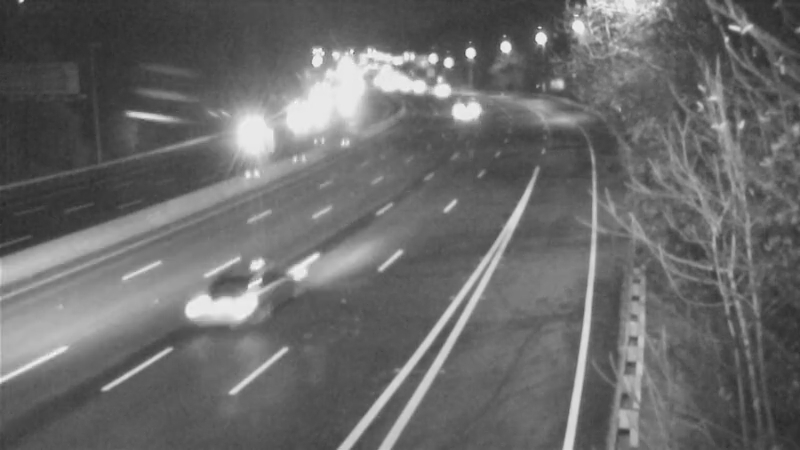vehicle: (171, 250, 281, 360), (408, 62, 458, 112), (437, 85, 487, 135), (221, 110, 271, 160), (268, 89, 318, 139)
